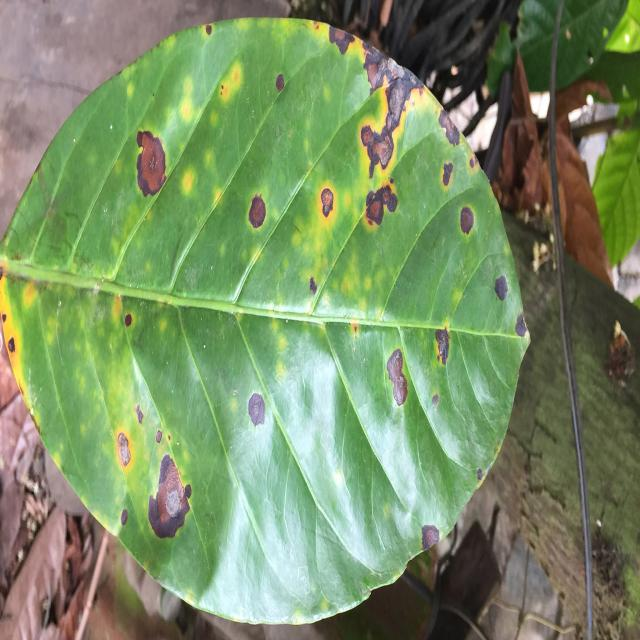Enfermedad-Mancha-de-hierro: (0, 19, 531, 620)
